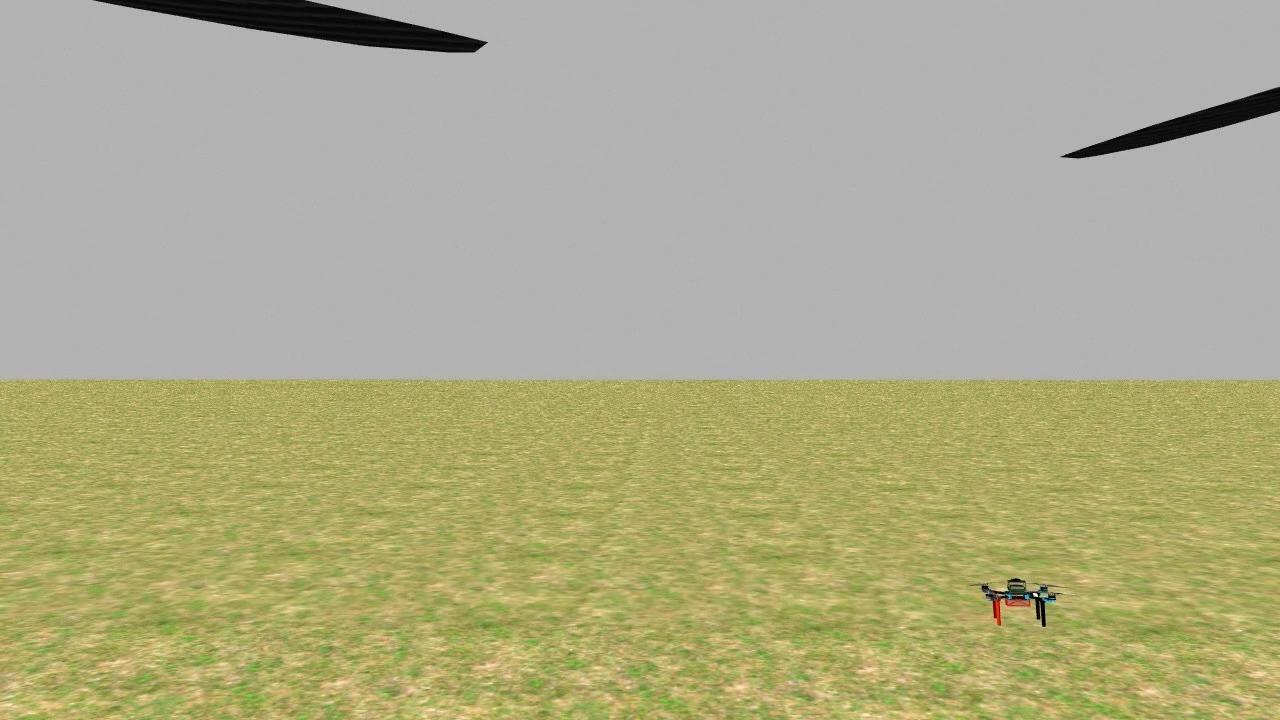UAV: (974, 566, 1060, 635)
